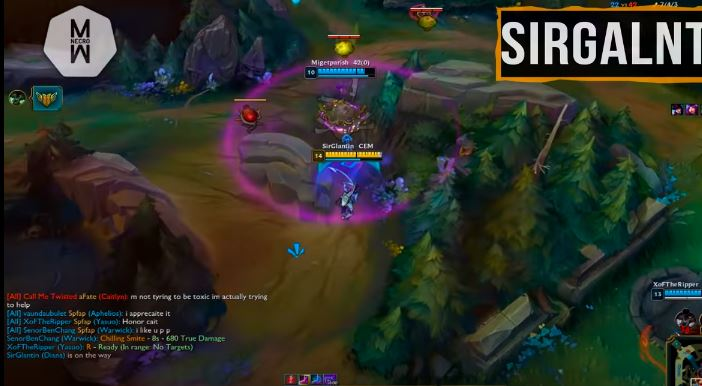bar: (301, 62, 378, 79), (311, 148, 384, 163), (649, 288, 702, 301)
